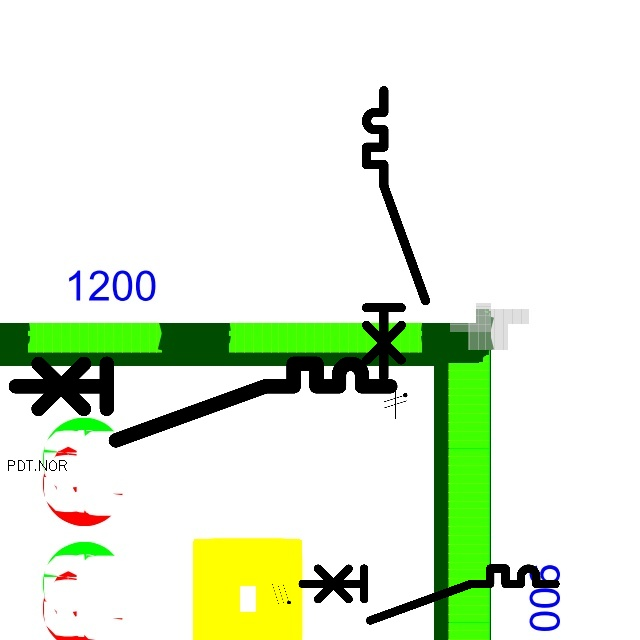interruptor_termomagnetico: (6, 354, 400, 450), (359, 83, 433, 385), (296, 562, 562, 627)
